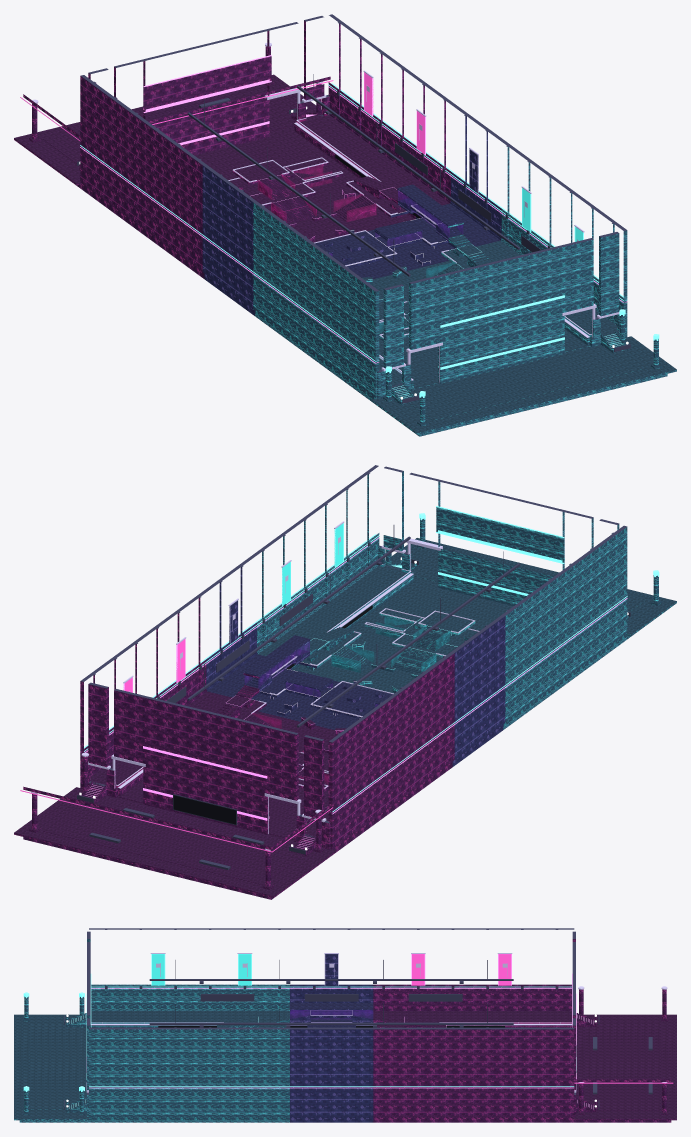
The model's file is ctf_arena_v52.glb.
3 views of the same model, one above another, from view 1: azimuth 30°, elevation 25°; view 2: azimuth 150°, elevation 25°; view 3: azimuth 270°, elevation 25° (orthographic). The views are drawn at different scales.
Parts seen in each view (by area): view 1: skin; view 2: skin; view 3: skin.
Part boxes in pixels (x1=…): skin: x1=14, y1=14, x2=676, y2=436; skin: x1=14, y1=465, x2=676, y2=899; skin: x1=14, y1=928, x2=676, y2=1122.
Bounding box in the file's own units: 142 × 60 × 382.
Materials: 21 (9 with a texture image).
